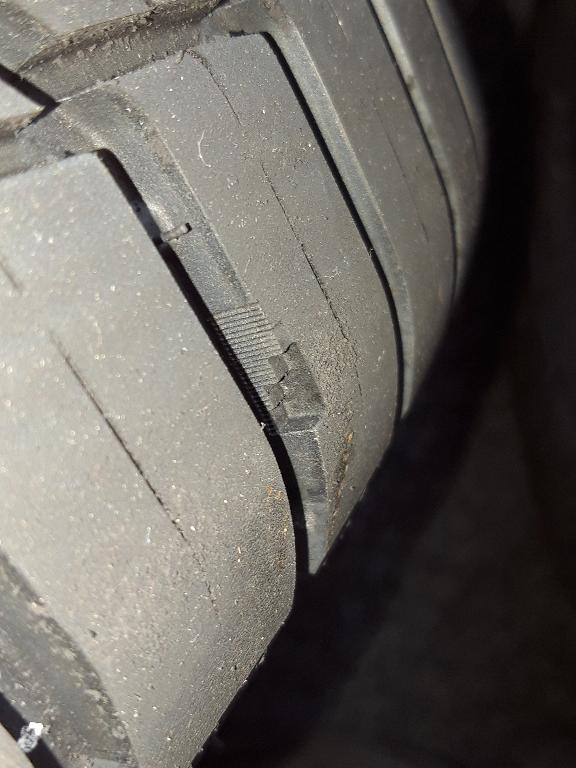temoin:75: (222, 315, 333, 443)
